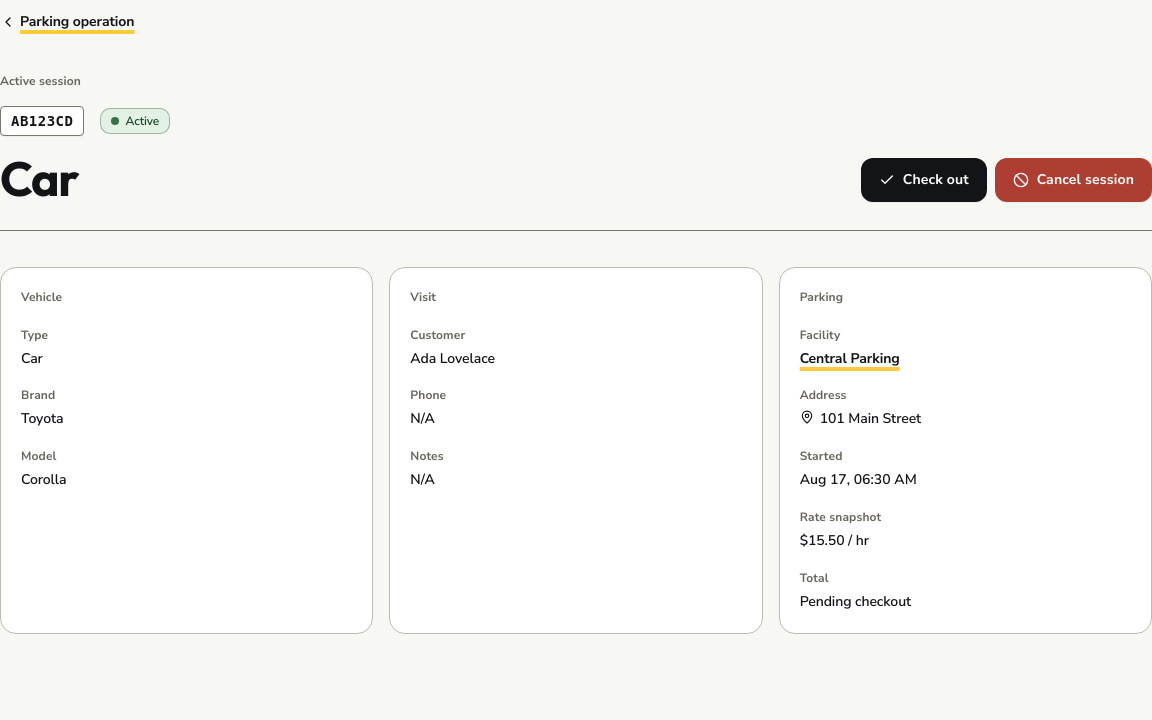
Test: parking session terminal states › reconciles a checkout race with the authoritative terminal session
What coordinates should you click on to do the following:
click the button "Check out"
I would click on:
 (924, 180)
Its box is [861,158,987,202].
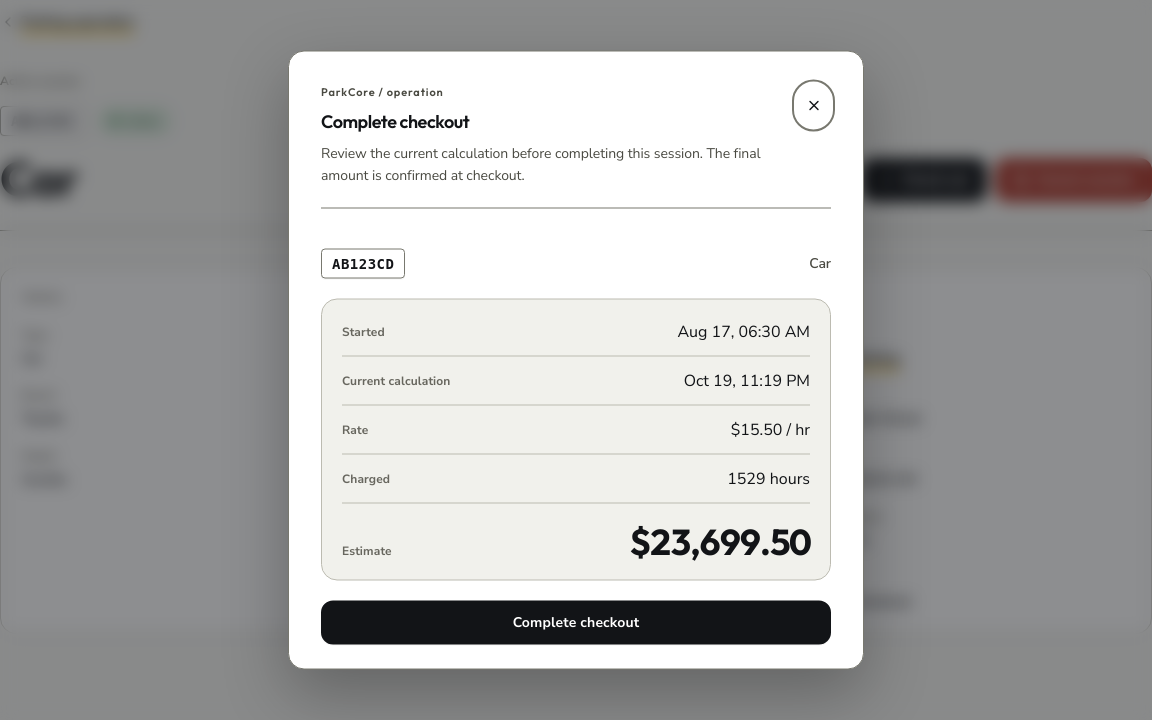
What coordinates should you click on to do the following:
click the button "Complete checkout"
I would click on:
 (576, 622)
Its box is [321,600,831,644].
(page scrolled)
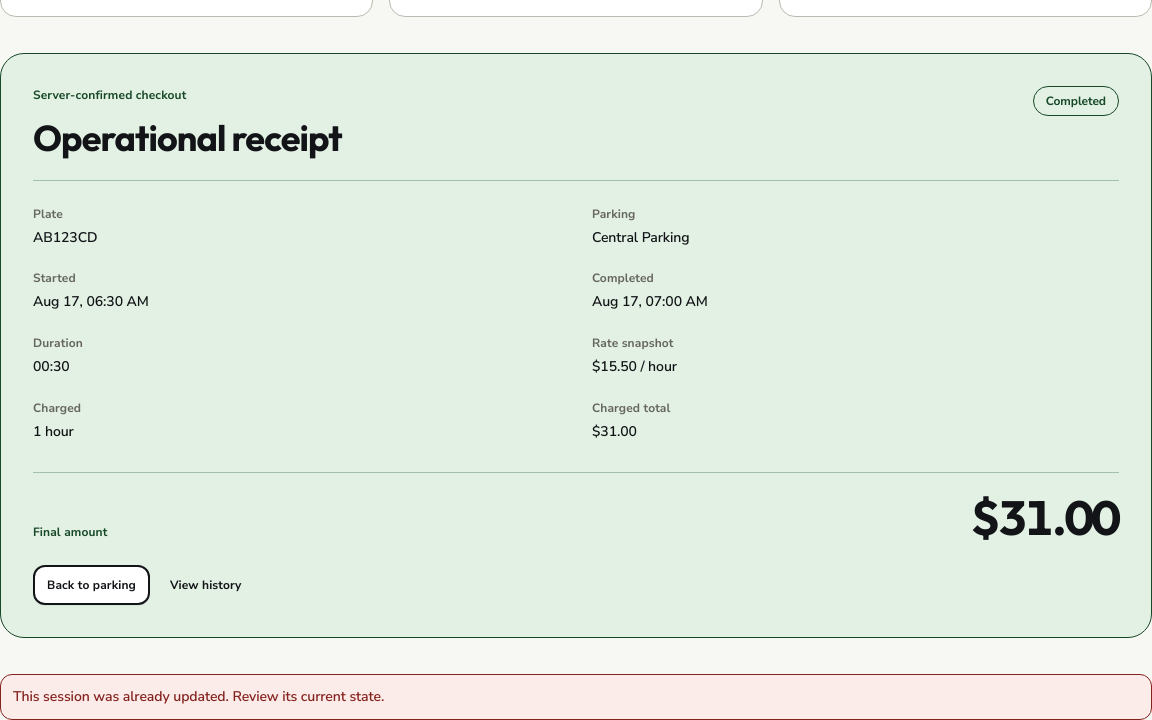
Expected: the element "Operational receipt" is shown
Expected: the button "Check out" is gone
Expected: the button "Cancel session" is gone
